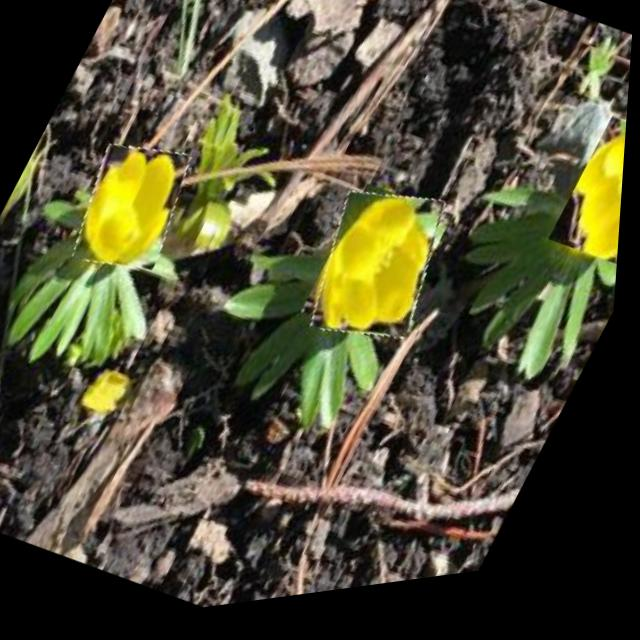Flower: (294, 176, 469, 374), (61, 129, 207, 294), (547, 131, 630, 300)
